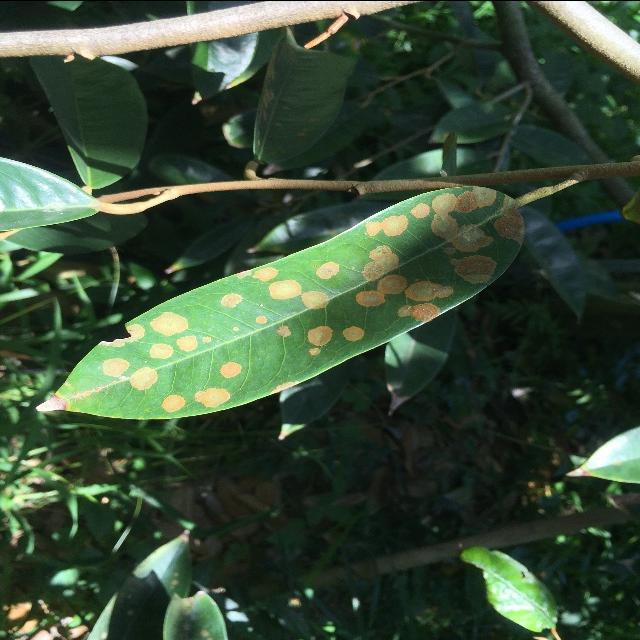Algal Leaf Spot: (32, 173, 533, 426)
